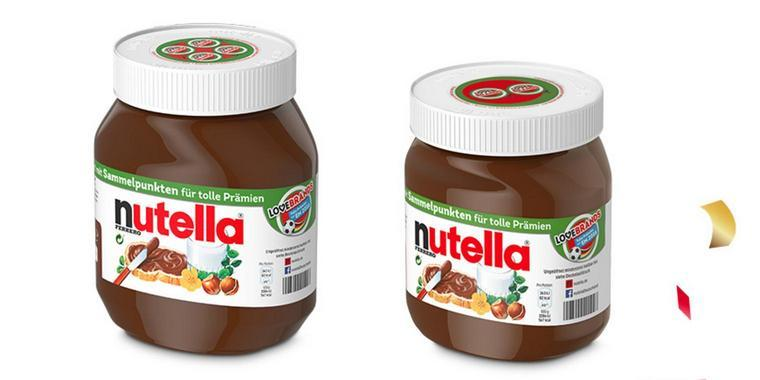nutella: (93, 22, 319, 355), (406, 60, 613, 362)
